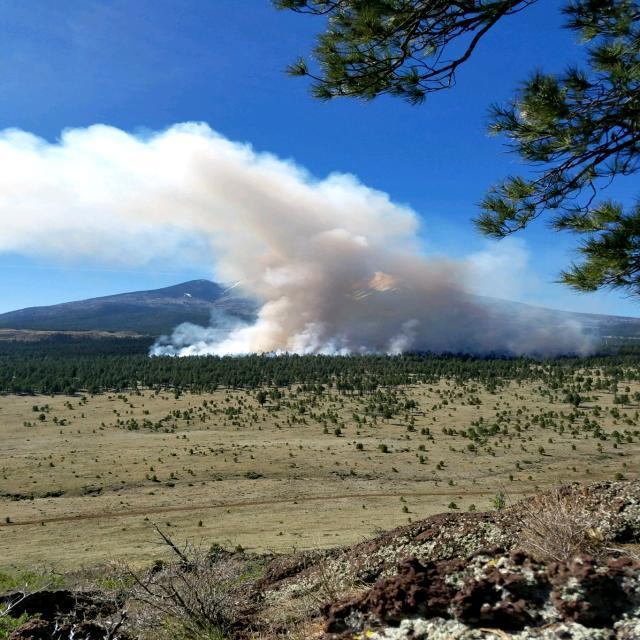Smoke: (0, 134, 598, 366)
